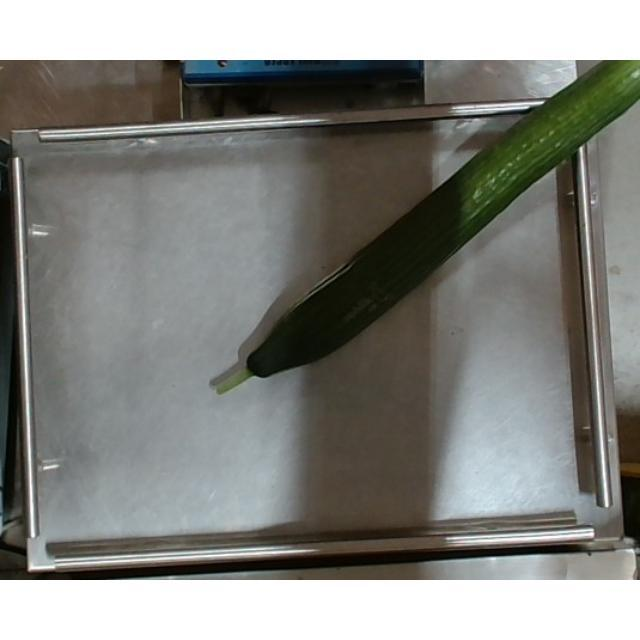cucumber: (206, 61, 636, 377)
